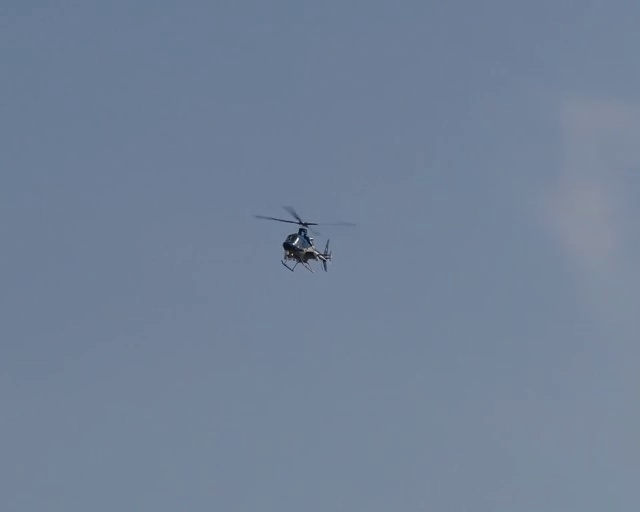HELICOPTER: (251, 204, 358, 273)
